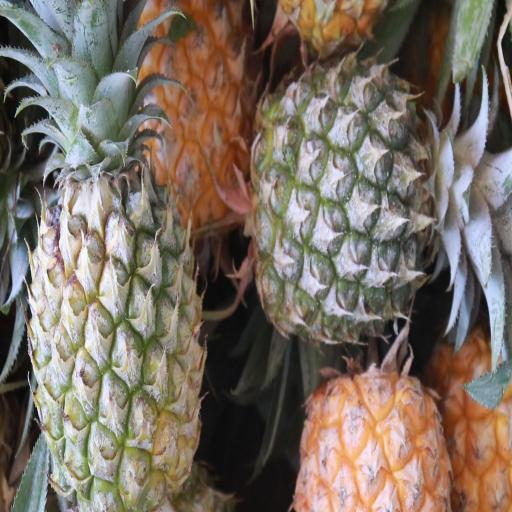Pineapple - v8 v1: (136, 0, 254, 232), (287, 363, 453, 512)
